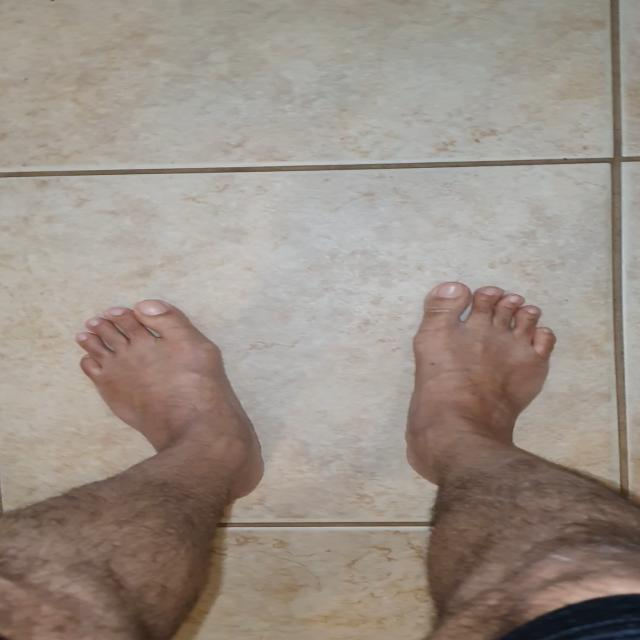no-boots: (66, 296, 270, 494), (407, 281, 563, 480)
